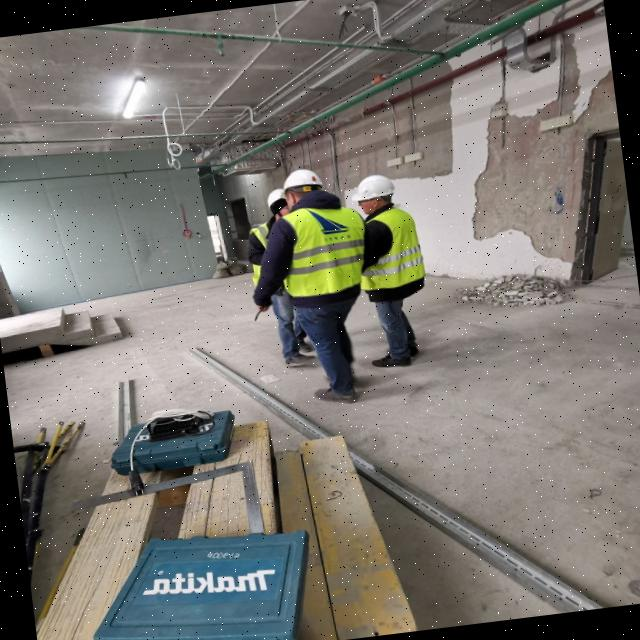Helmet: (352, 174, 395, 203), (281, 168, 328, 194), (266, 189, 285, 208)
Jacket: (286, 202, 366, 293), (362, 207, 425, 287)
